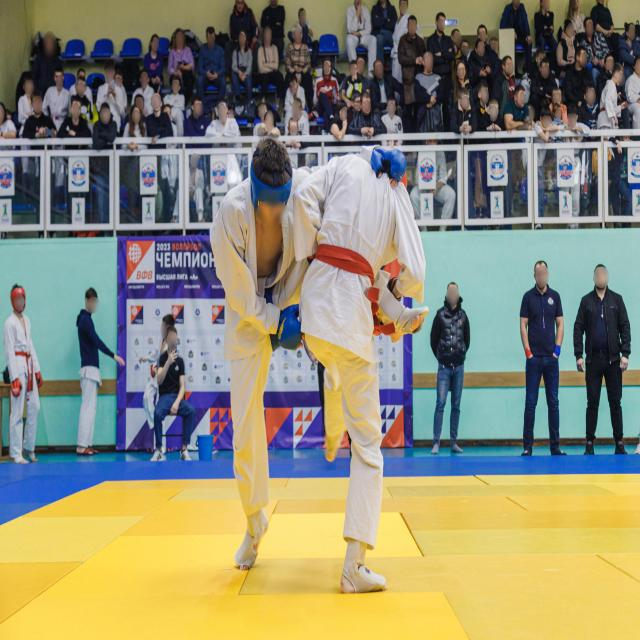Person: (571, 256, 640, 465), (518, 260, 572, 467), (56, 256, 109, 455), (421, 274, 476, 458), (0, 281, 46, 468), (157, 324, 197, 467), (414, 45, 443, 134), (255, 26, 287, 101), (430, 9, 451, 119), (495, 0, 532, 56), (198, 25, 226, 93), (603, 63, 629, 135), (232, 27, 254, 105), (54, 95, 88, 145), (399, 12, 423, 82), (168, 25, 195, 84), (91, 102, 118, 159), (451, 89, 477, 146), (23, 92, 54, 139), (315, 54, 342, 104), (580, 17, 602, 78), (287, 23, 310, 81), (625, 51, 640, 137), (586, 0, 618, 40), (38, 29, 58, 92), (531, 0, 555, 51), (148, 92, 170, 146), (260, 0, 286, 45), (503, 86, 528, 132), (168, 76, 186, 134), (102, 61, 124, 108), (342, 53, 364, 99), (230, 0, 258, 36), (558, 17, 578, 66), (358, 92, 380, 136), (187, 92, 208, 137), (474, 39, 494, 85), (582, 86, 601, 134), (126, 105, 147, 148), (620, 22, 638, 72), (17, 78, 38, 120), (212, 98, 235, 135), (392, 0, 408, 52), (50, 68, 68, 114), (331, 100, 351, 140), (383, 97, 402, 139), (148, 24, 163, 77), (564, 105, 584, 144), (480, 97, 504, 129), (373, 59, 390, 104), (534, 58, 554, 96), (256, 106, 278, 138), (136, 62, 152, 104), (537, 106, 555, 139), (447, 26, 463, 60), (566, 0, 584, 30), (284, 74, 304, 100), (74, 75, 93, 102), (474, 84, 490, 115), (572, 46, 586, 80), (500, 55, 516, 84), (454, 55, 468, 88), (291, 97, 308, 124), (552, 103, 566, 134), (256, 101, 270, 124), (286, 117, 302, 137), (476, 25, 488, 51), (490, 33, 500, 61), (460, 36, 472, 59), (134, 94, 148, 113), (114, 70, 126, 90), (552, 89, 566, 105)
